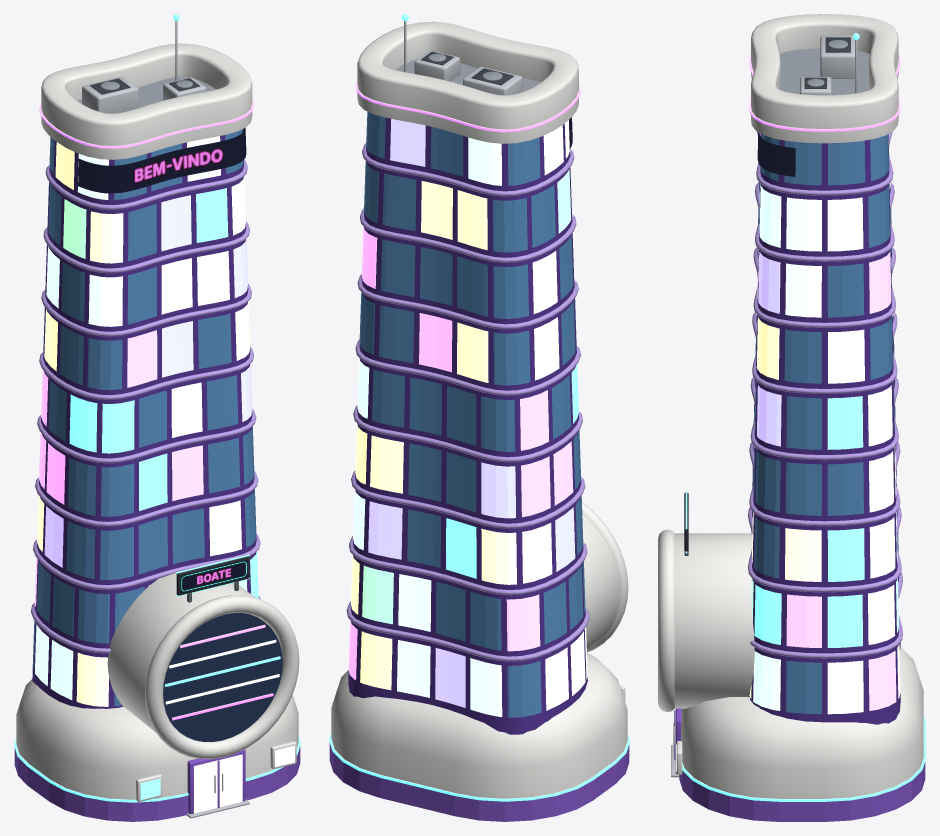
Rendered from boate_torre_anel_lilas.glb.
The picture shows the model from 3 angles, left to right: view 1: azimuth 30°, elevation 25°; view 2: azimuth 150°, elevation 25°; view 3: azimuth 270°, elevation 25°; orthographic projection. The views are drawn at different scales.
Parts seen in each view (by area): view 1: boate_torre_anel_lilas; view 2: boate_torre_anel_lilas; view 3: boate_torre_anel_lilas.
Part boxes in pixels (<box>): boate_torre_anel_lilas: <box>14,14,300,821</box>; boate_torre_anel_lilas: <box>329,14,629,821</box>; boate_torre_anel_lilas: <box>658,14,925,821</box>.
Bounding box in the file's own units: 12.8 × 36.9 × 11.92.
Materials: 14 (3 with a texture image).
